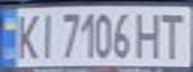0: (93, 9, 115, 60)
1: (78, 9, 96, 58)
6: (112, 9, 136, 60)
7: (57, 9, 81, 60)
H: (133, 9, 166, 60)
I: (33, 9, 57, 60)
K: (9, 10, 45, 61)
T: (154, 9, 190, 60)
